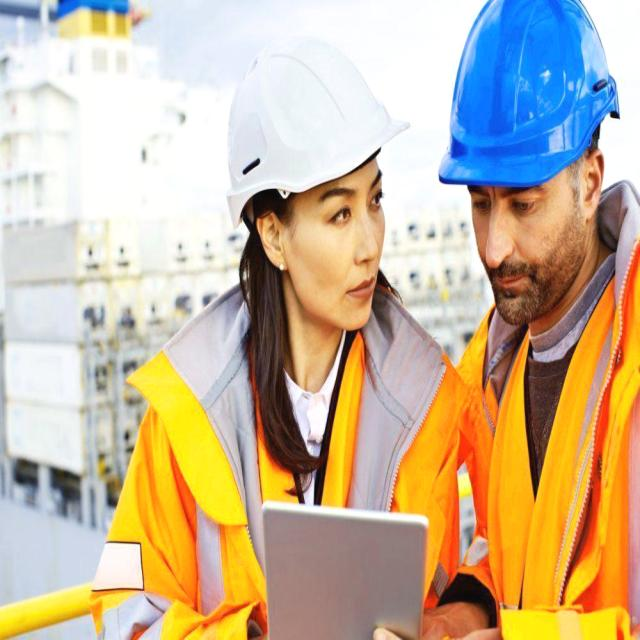face_nomask: (468, 180, 586, 331), (281, 171, 386, 336)
head_helmet: (431, 5, 628, 170), (220, 47, 412, 171)
person: (119, 46, 459, 626), (390, 1, 634, 630)
